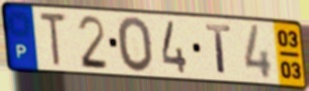2: (76, 13, 109, 71)
4: (242, 23, 276, 82), (161, 19, 189, 75)
O: (115, 15, 156, 75)
T: (38, 10, 69, 68), (204, 23, 233, 78)
